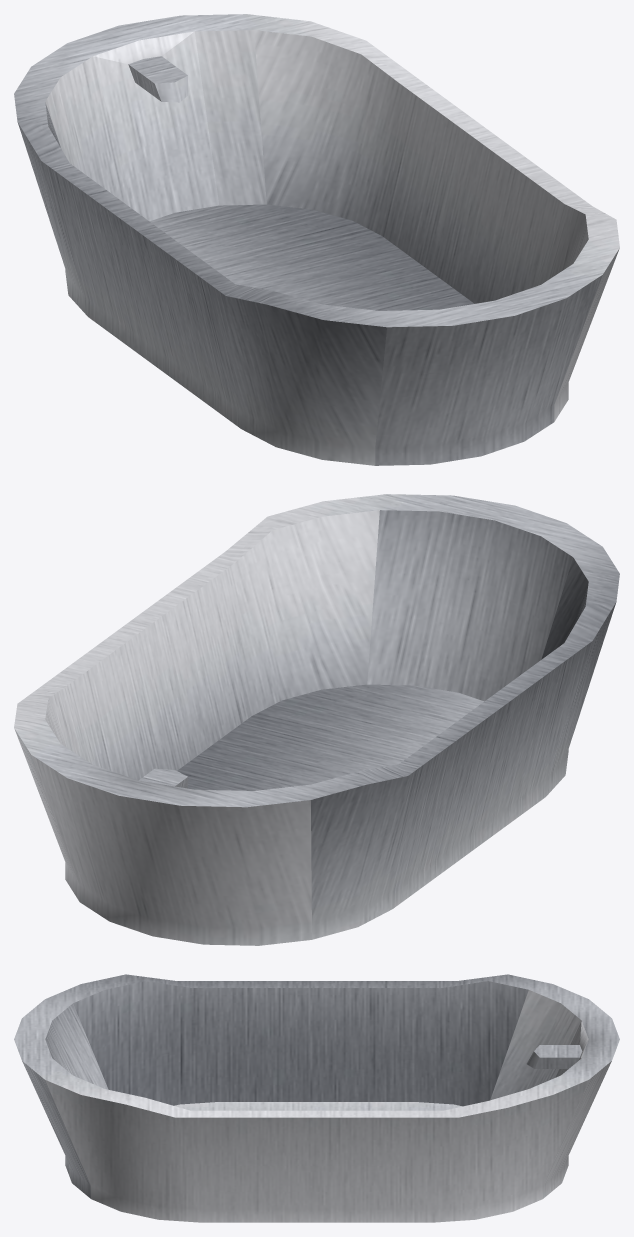
The model's file is tub.fbx.
3 renders of one model, top to bottom at view 1: azimuth 30°, elevation 25°; view 2: azimuth 150°, elevation 25°; view 3: azimuth 270°, elevation 25°, orthographic. The views are drawn at different scales.
Visible parts, largest first — view 1: pCylinder1; view 2: pCylinder1; view 3: pCylinder1.
Part boxes in pixels (box(x1,y1,x2,y2)): pCylinder1: box(14, 14, 619, 465); pCylinder1: box(14, 494, 619, 945); pCylinder1: box(14, 974, 619, 1222).
Bounding box in the file's own units: 1.53 × 0.6678 × 2.87.
Materials: 1 (1 with a texture image).
